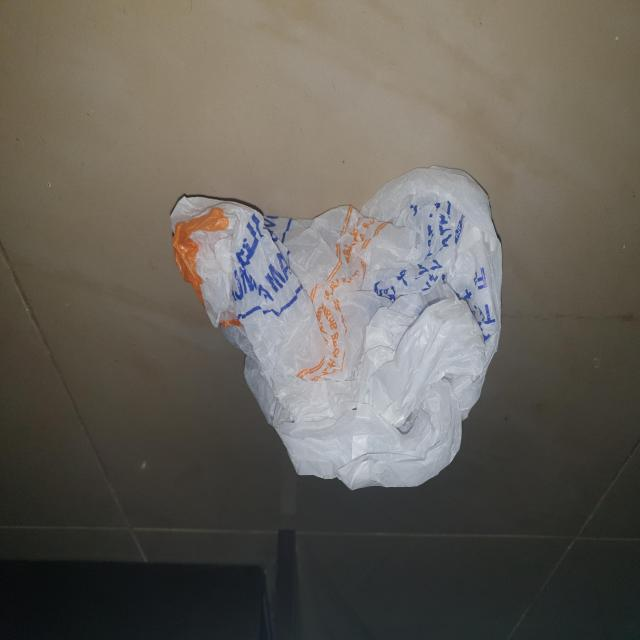plastic bag: (168, 166, 506, 490)
